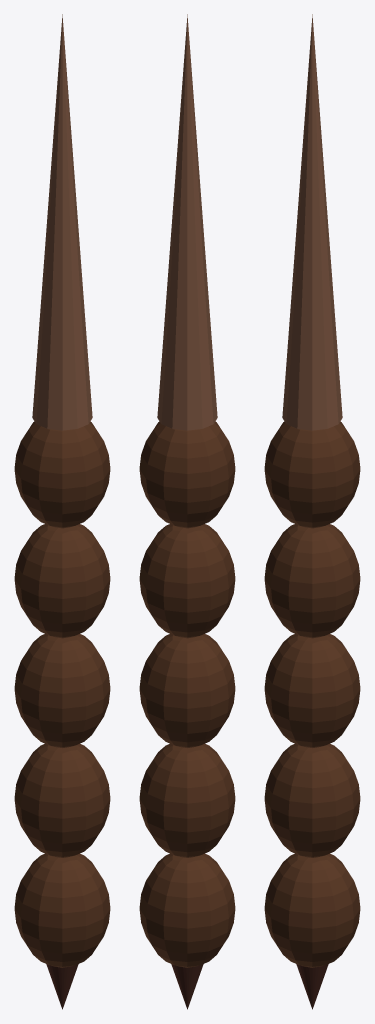
The model's file is Wand 222.glb.
3 views of the same model, side by side, from view 1: azimuth 30°, elevation 25°; view 2: azimuth 210°, elevation 25°; view 3: azimuth 270°, elevation 25° (orthographic).
Parts seen in each view (by area): view 1: GeneratedWand; view 2: GeneratedWand; view 3: GeneratedWand.
Part boxes in pixels (x1,y1,x2,y2): GeneratedWand: (14, 14, 110, 1009); GeneratedWand: (139, 14, 235, 1009); GeneratedWand: (264, 14, 360, 1009).
Size of the model in its own units: 0.0447 by 0.514 by 0.0449.
